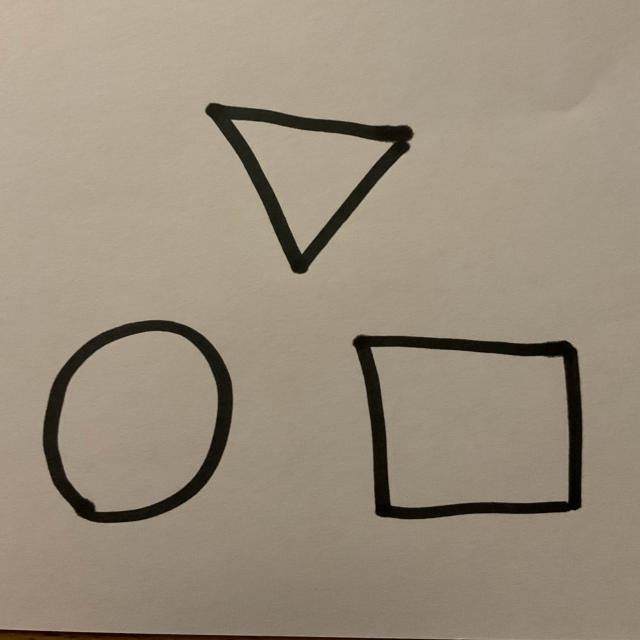Dreieck: (203, 103, 414, 277)
Kreis: (41, 320, 235, 526)
Quadrat: (352, 335, 585, 522)
